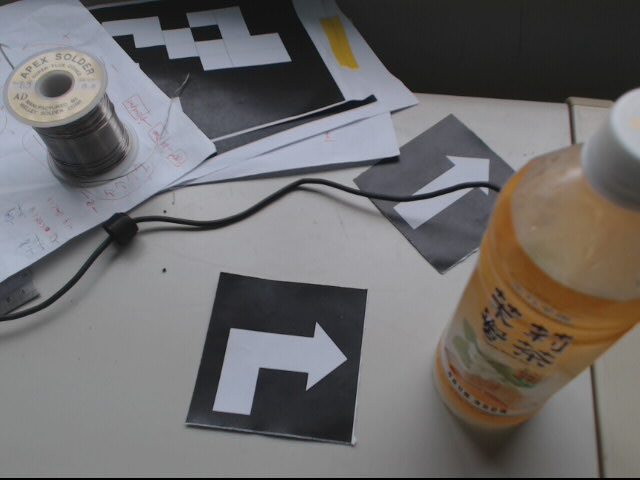right: (185, 269, 369, 447)
